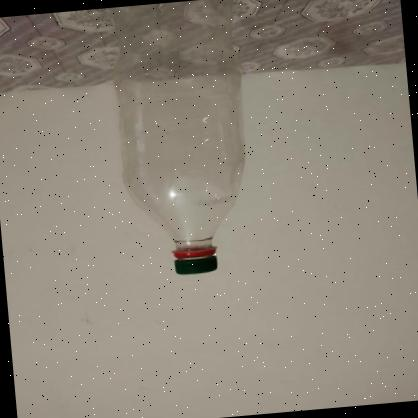bottle: (109, 0, 257, 280)
cap: (173, 248, 219, 276)
